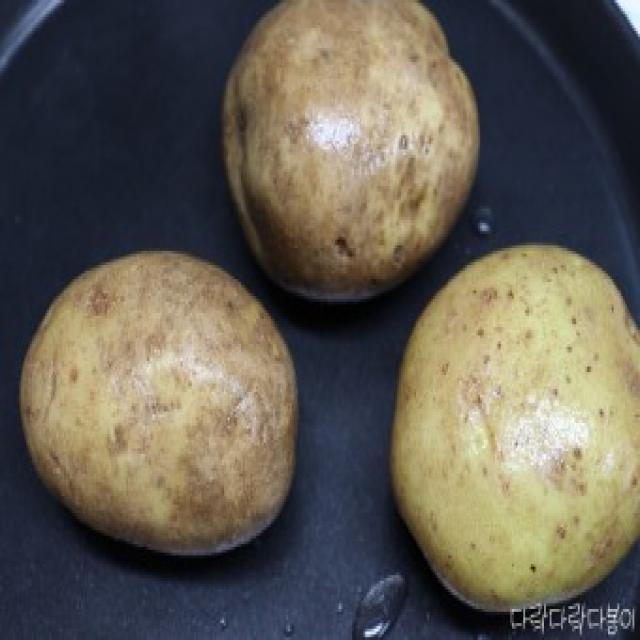potato: (386, 245, 640, 623), (17, 239, 303, 564), (226, 0, 486, 290)
